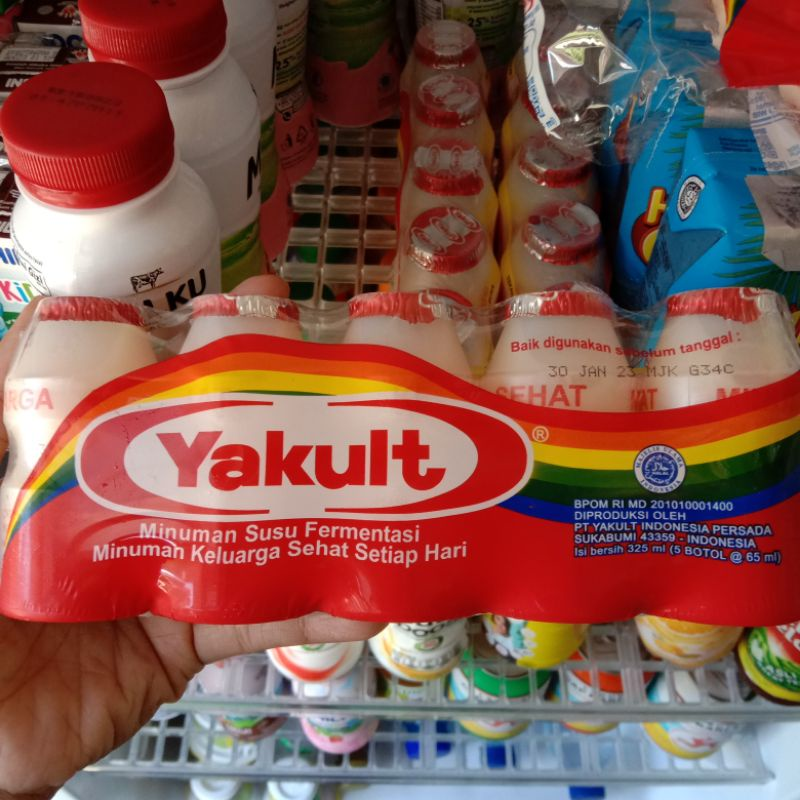Yakult (325ml): (11, 294, 799, 640)
